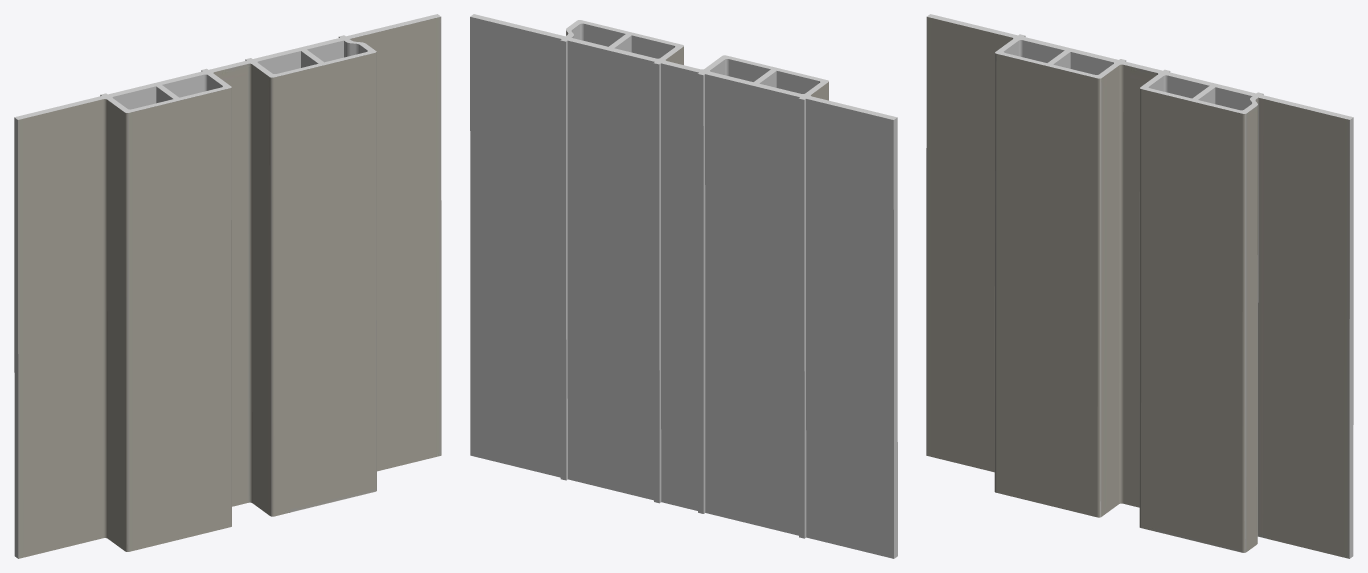
The model's file is 2livizon.glb.
The picture shows the model from 3 angles, left to right: view 1: azimuth 30°, elevation 25°; view 2: azimuth 150°, elevation 25°; view 3: azimuth 330°, elevation 25°; orthographic projection.
Parts seen in each view (by area): view 1: Plane.008; view 2: Plane.008; view 3: Plane.008.
Boxes of the visible parts, x1,y1,x2,y2 form: Plane.008: [14, 14, 441, 558]; Plane.008: [470, 14, 897, 558]; Plane.008: [926, 14, 1353, 558].
Bounding box in the file's own units: 8.1 × 8.03 × 0.8706.
Materials: 2 (1 with a texture image).
